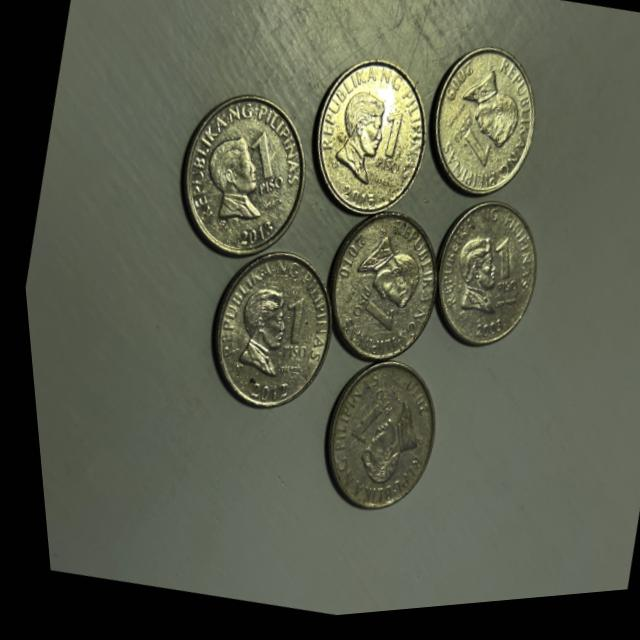1_Old_Front: (325, 373, 396, 465), (471, 231, 527, 315), (231, 137, 292, 211), (355, 111, 410, 192), (338, 285, 399, 347), (438, 113, 497, 177), (263, 302, 310, 376)
